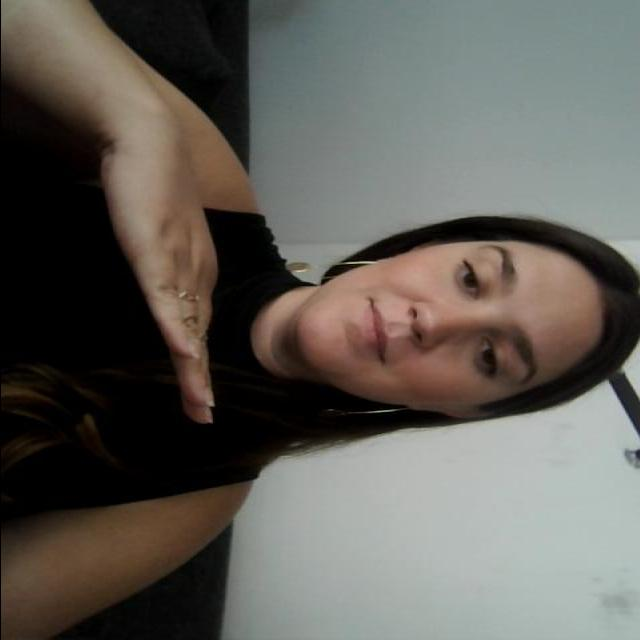Paper: (82, 152, 240, 417)
